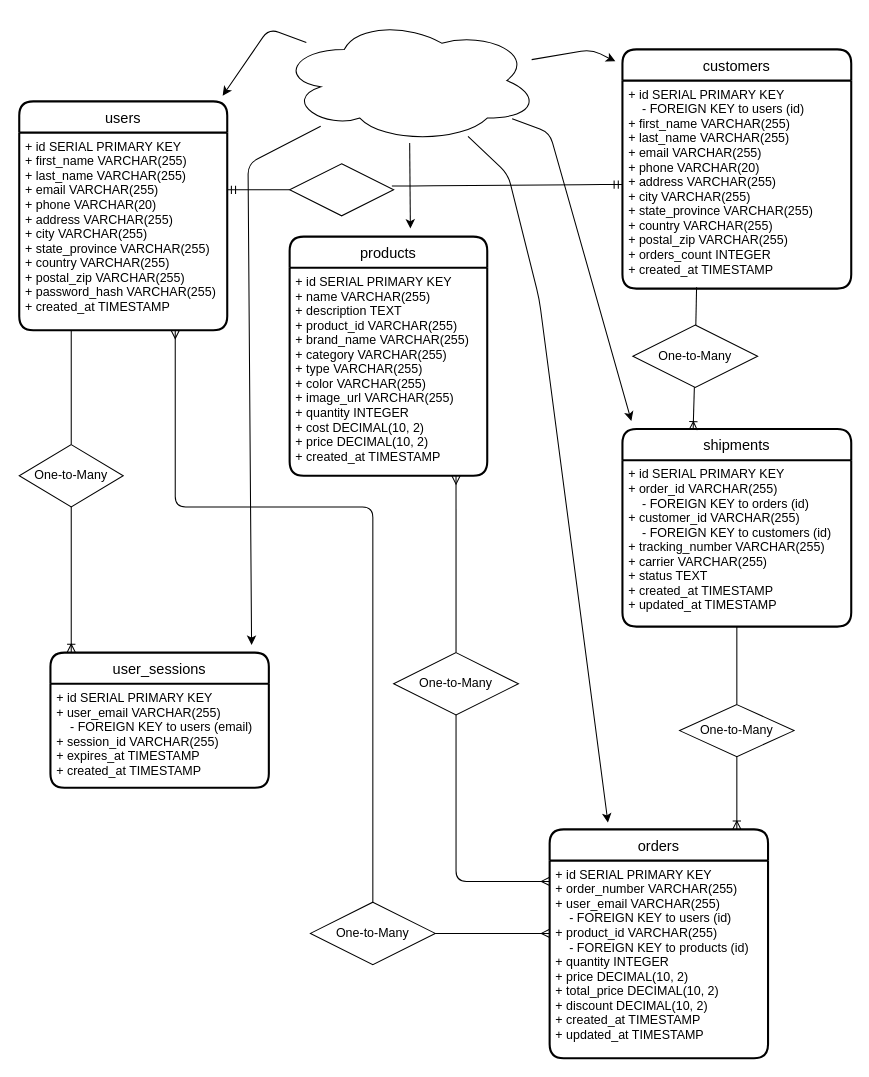
The diagram is 869 pixels wide and 1077 high, and some of its shapes have lost their labels. The shapes that lost their labels are listed below. From the top down, each one's centre as x and y in pixels, then its label:
At point 408,80: "Azure Database for PostgreSQL Database Name: tools_store".
At point 341,189: "One-To-One".
